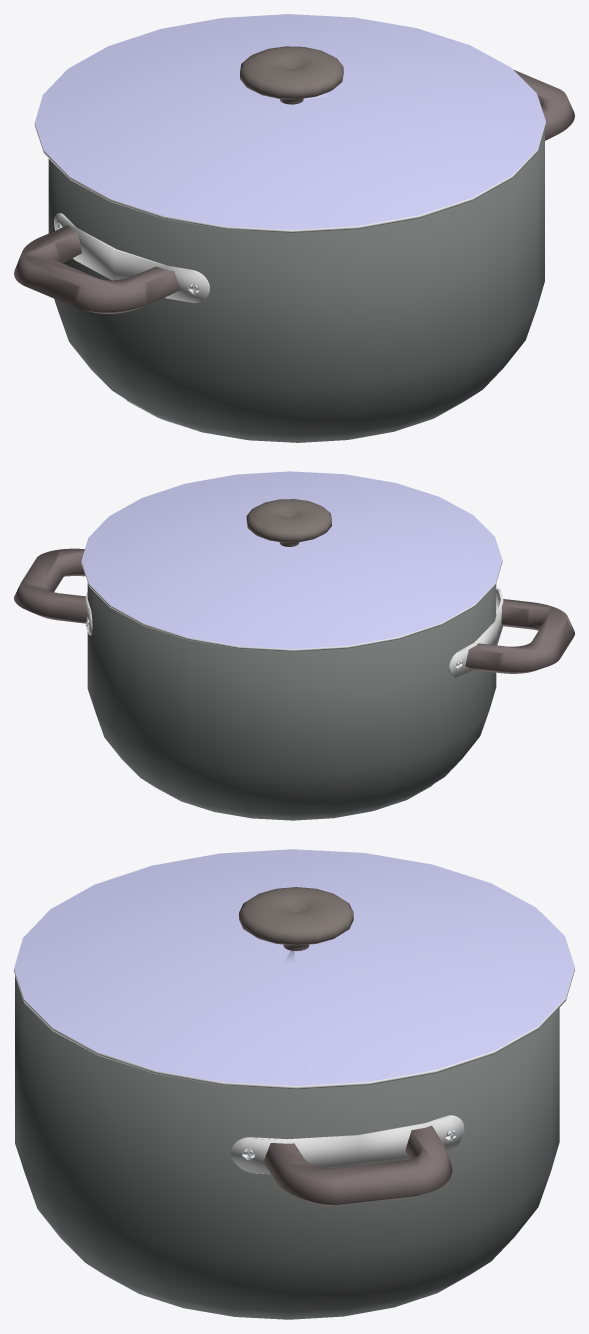
The model's file is potThick.fbx.
3 views of the same model, one above another, from view 1: azimuth 30°, elevation 25°; view 2: azimuth 150°, elevation 25°; view 3: azimuth 270°, elevation 25° (orthographic). The views are drawn at different scales.
Parts seen in each view (by area): view 1: Pot, Lid, Group6, Group7, Group2, Group8; view 2: Pot, Lid, Group6, Group8, Group2, Group7; view 3: Pot, Lid, Group8, Group9, Group2.
Boxes of the visible parts, x1,y1,x2,y2 form: Pot: (48, 128, 544, 442); Lid: (34, 14, 545, 229); Group6: (14, 225, 180, 313); Group7: (54, 213, 209, 302); Group2: (34, 122, 545, 232); Group8: (513, 69, 574, 140); Pot: (87, 583, 496, 820); Lid: (81, 471, 502, 649); Group6: (465, 599, 574, 673); Group8: (14, 548, 86, 623); Group2: (81, 560, 502, 651); Group7: (448, 588, 503, 678); Pot: (15, 975, 559, 1319); Lid: (14, 849, 574, 1086); Group8: (263, 1125, 452, 1205); Group9: (230, 1115, 464, 1174); Group2: (14, 967, 574, 1089).
Bounding box in the file's own units: 55.72 × 26.6 × 41.6.
